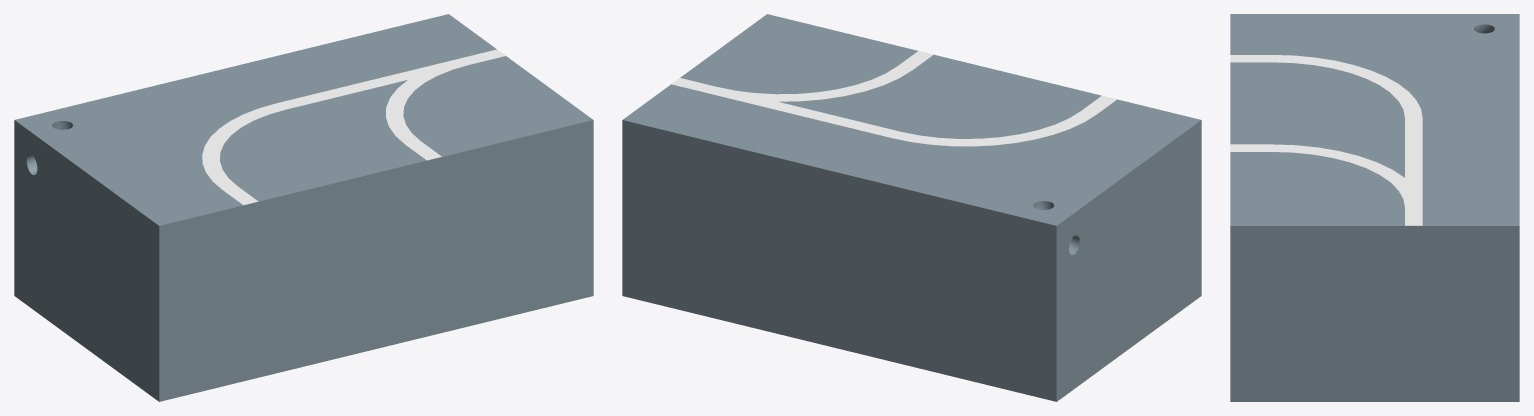
The model's file is Uphill.dae.
The picture shows the model from 3 angles, left to right: view 1: azimuth 30°, elevation 25°; view 2: azimuth 150°, elevation 25°; view 3: azimuth 270°, elevation 25°; orthographic projection.
Parts seen in each view (by area): view 1: 667d761973643935c3f76dca; view 2: 667d761973643935c3f76dca; view 3: 667d761973643935c3f76dca.
Boxes of the visible parts, x1,y1,x2,y2 form: 667d761973643935c3f76dca: (14, 14, 593, 401); 667d761973643935c3f76dca: (622, 14, 1201, 401); 667d761973643935c3f76dca: (1230, 14, 1519, 401).
Size of the model in its own units: 1.42 by 0.82 by 0.5505.
